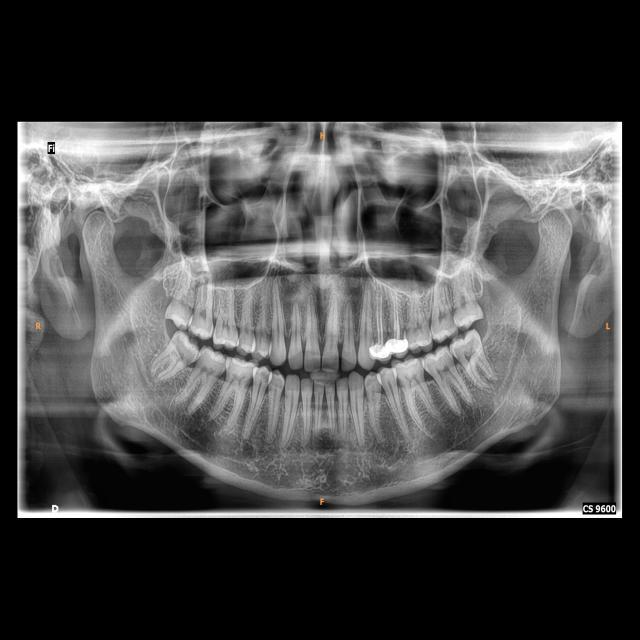kanal-tedavisi: (388, 292, 404, 341), (375, 296, 387, 344)
kaplama: (369, 340, 392, 360), (386, 336, 410, 353)
